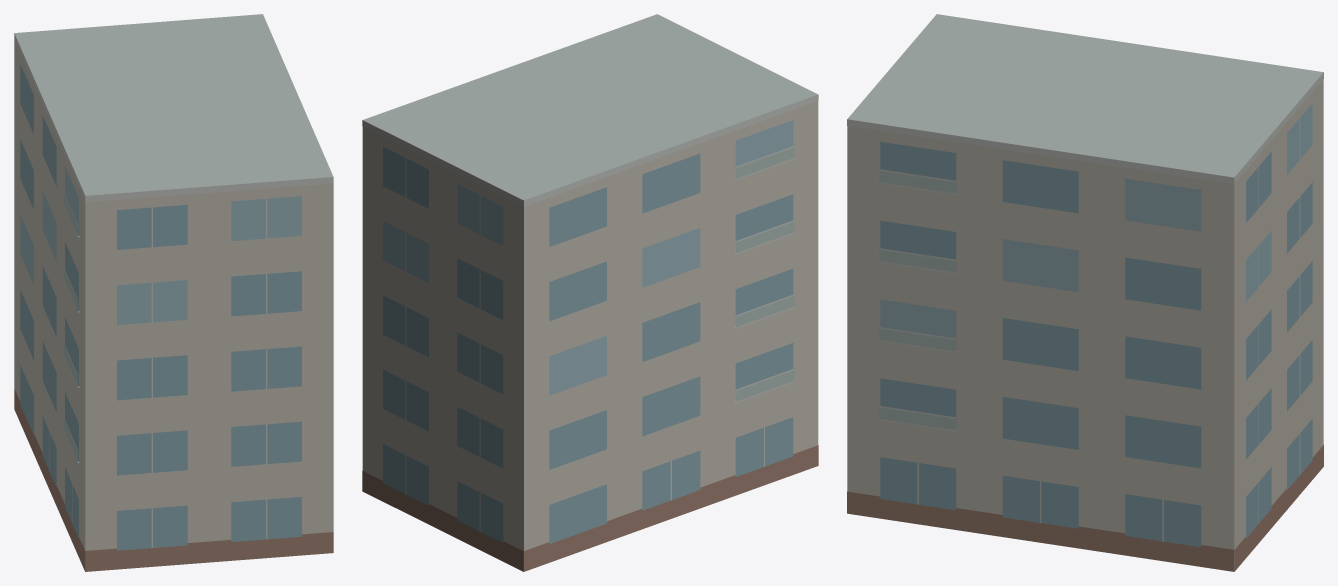
File: survey-upis-32883394.glb
3 renders of one model, left to right at view 1: azimuth 30°, elevation 25°; view 2: azimuth 150°, elevation 25°; view 3: azimuth 270°, elevation 25°, orthographic. The views are drawn at different scales.
Visible parts, largest first — view 1: survey-upis-32883394.tmp; view 2: survey-upis-32883394.tmp; view 3: survey-upis-32883394.tmp.
Part boxes in pixels (x1,y1,x2,y2): survey-upis-32883394.tmp: (14, 14, 333, 571); survey-upis-32883394.tmp: (362, 14, 818, 571); survey-upis-32883394.tmp: (847, 14, 1323, 571).
Size of the model in its own units: 12.95 by 14.55 by 15.95.
